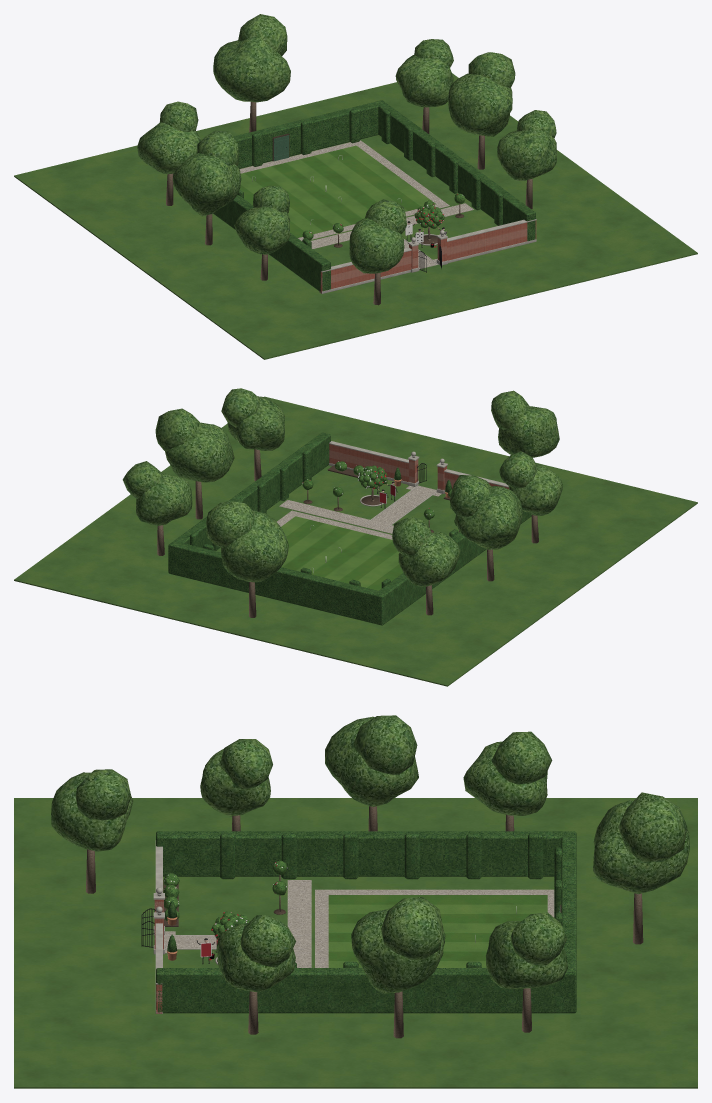
File: queens_croquet_ground.gltf
The picture shows the model from 3 angles, top to bottom: view 1: azimuth 30°, elevation 25°; view 2: azimuth 150°, elevation 25°; view 3: azimuth 270°, elevation 25°; orthographic projection. The views are drawn at different scales.
Parts seen in each view (by area): view 1: MESH_Lawn, MESH_TreeLeaves, MESH_Hedge, MESH_CroquetLawn, MESH_Brick, MESH_Gravel, MESH_Bark, MESH_Stone, RoseTree_RoseLeaves; view 2: MESH_Lawn, MESH_TreeLeaves, MESH_Hedge, MESH_CroquetLawn, MESH_Gravel, MESH_Brick, MESH_Bark, MESH_Stone, RoseTree_RoseLeaves, MESH_RoseLeaves; view 3: MESH_Lawn, MESH_TreeLeaves, MESH_Hedge, MESH_CroquetLawn, MESH_Gravel, MESH_Bark, MESH_Stone, MESH_RoseLeaves.
Part boxes in pixels (box(x1,y1,x2,y2)): MESH_Lawn: box(14, 73, 697, 359); MESH_TreeLeaves: box(137, 14, 556, 273); MESH_Hedge: box(173, 100, 535, 291); MESH_CroquetLawn: box(240, 145, 435, 237); MESH_Brick: box(320, 220, 536, 293); MESH_Gravel: box(239, 140, 473, 269); MESH_Bark: box(166, 102, 532, 305); MESH_Stone: box(319, 219, 536, 293); RoseTree_RoseLeaves: box(414, 205, 444, 228); MESH_Lawn: box(14, 396, 697, 686); MESH_TreeLeaves: box(122, 388, 562, 586); MESH_Hedge: box(168, 432, 531, 625); MESH_CroquetLawn: box(281, 516, 403, 590); MESH_Gravel: box(277, 485, 441, 539); MESH_Brick: box(329, 444, 508, 490); MESH_Bark: box(157, 449, 538, 617); MESH_Stone: box(328, 441, 508, 528); RoseTree_RoseLeaves: box(357, 465, 387, 488); MESH_RoseLeaves: box(302, 461, 456, 525); MESH_Lawn: box(14, 798, 697, 1088); MESH_TreeLeaves: box(51, 715, 689, 993); MESH_Hedge: box(156, 831, 576, 1013); MESH_CroquetLawn: box(328, 895, 547, 967); MESH_Gravel: box(164, 880, 554, 967); MESH_Bark: box(86, 806, 643, 1038); MESH_Stone: box(153, 840, 302, 1013); MESH_RoseLeaves: box(163, 860, 286, 921).
Size of the model in its own units: 40 by 10.3 by 40.
42 materials, 42 textured.
